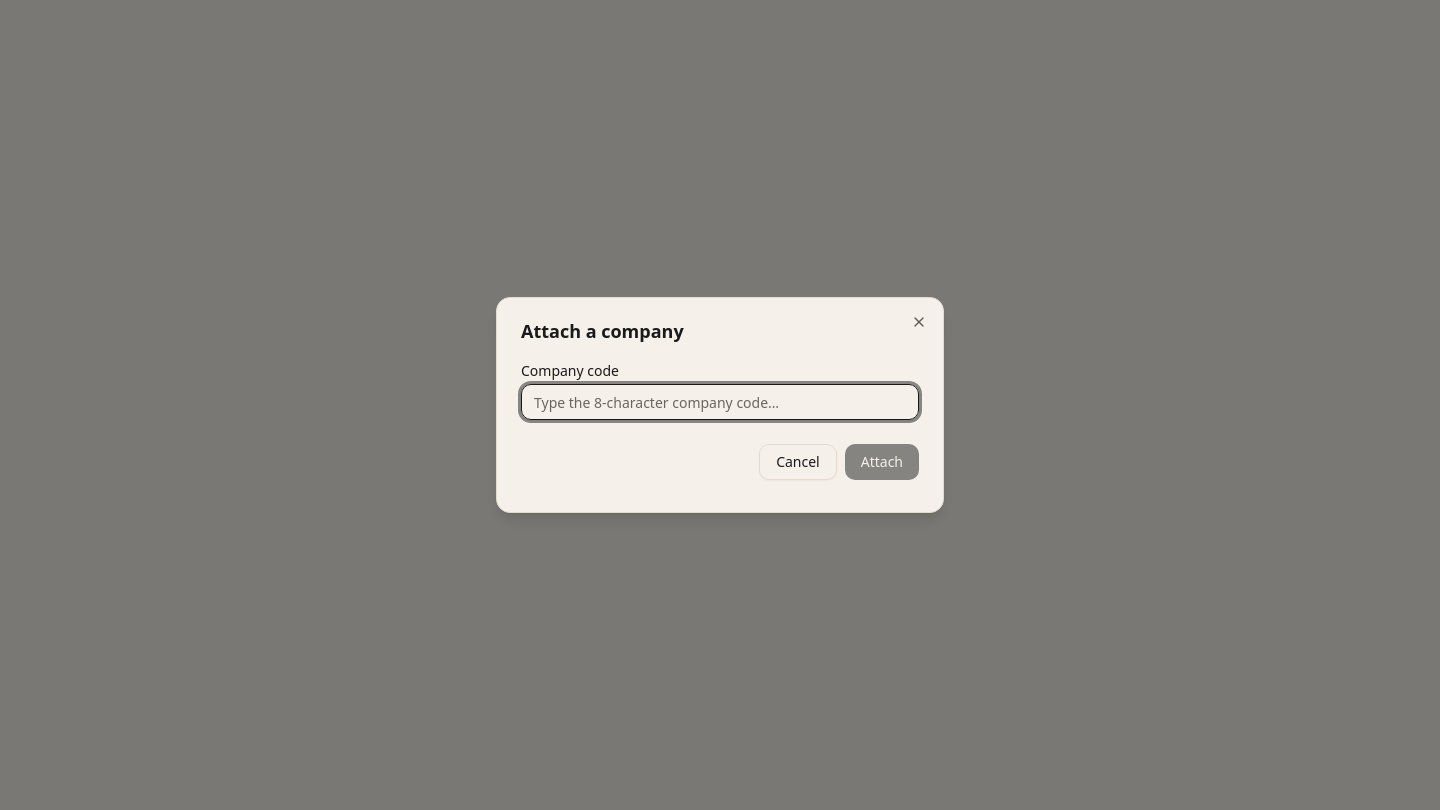
Scenario: JoinCompanyDialog — submit guard › Attach button is enabled when code has non-whitespace content
In the field: (720, 402) [521,384,919,420], type "AAAA2222"
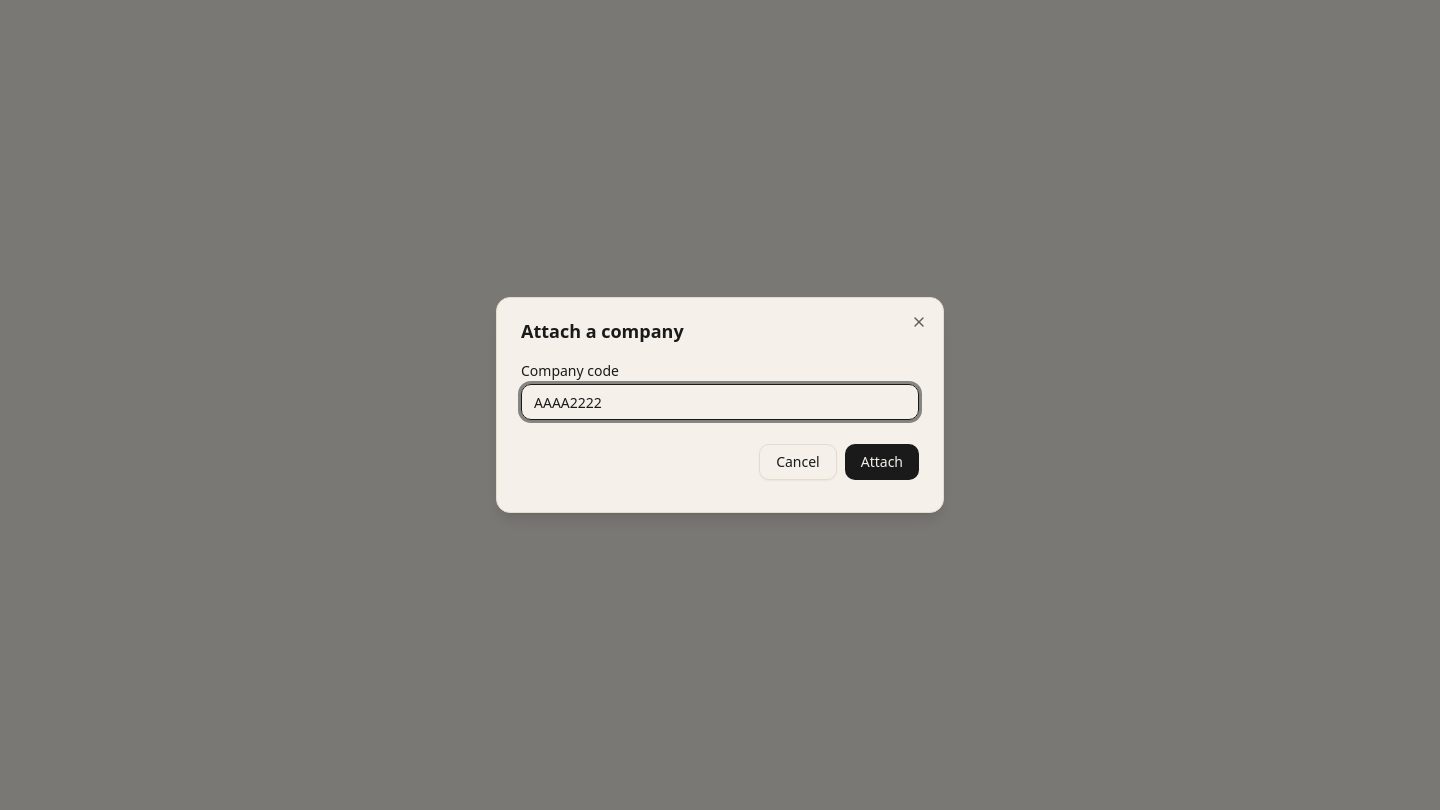
Expected: the button "Attach" is enabled, [845,444,919,480]
